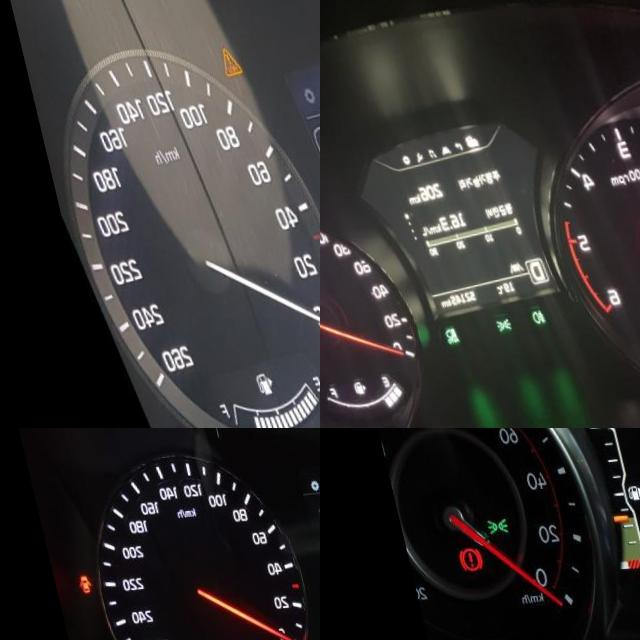Doors: (62, 573, 79, 594)
FrontFogLight: (511, 315, 528, 333)
SideLamp: (468, 519, 491, 536), (475, 322, 494, 339)
